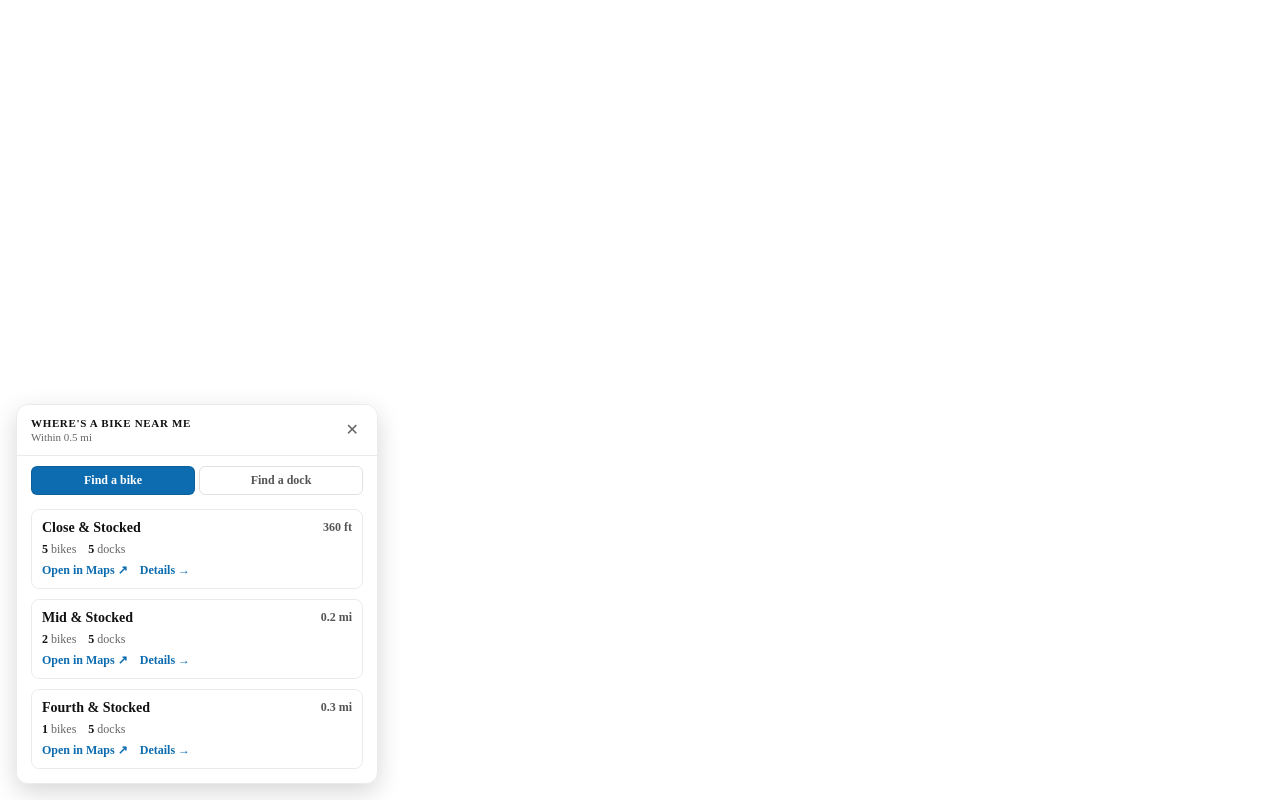
NearbyStationsSheet › switching to dock mode re-ranks for stations with open docks
The image size is (1280, 800).
Click the button with test id "nearby-sheet-mode-dock" at (281,480), box [199,466,363,495]
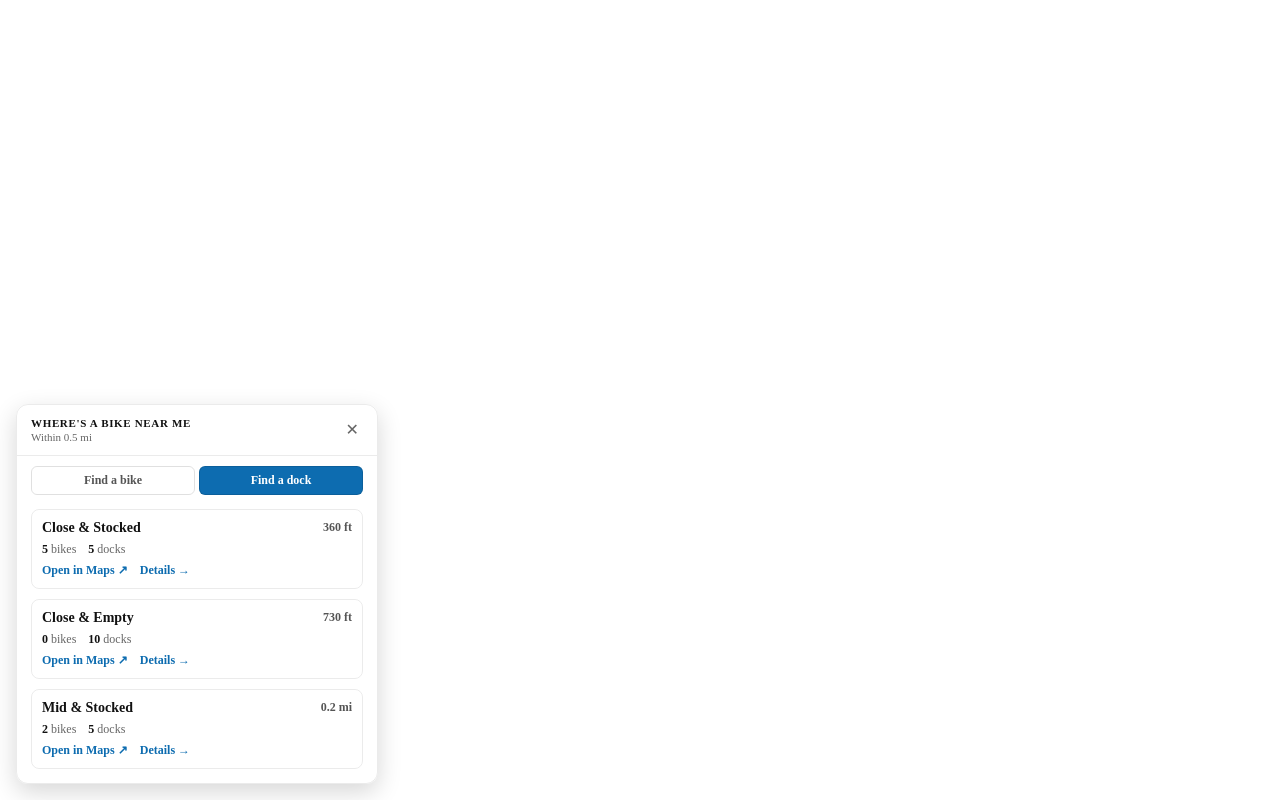
Expected: the list item with test id "nearby-sheet-row" shows "Close & Stocked", [42,520,141,535]
Result: the list item with test id "nearby-sheet-row" shows "Close & Empty" at [42,610,134,625]
